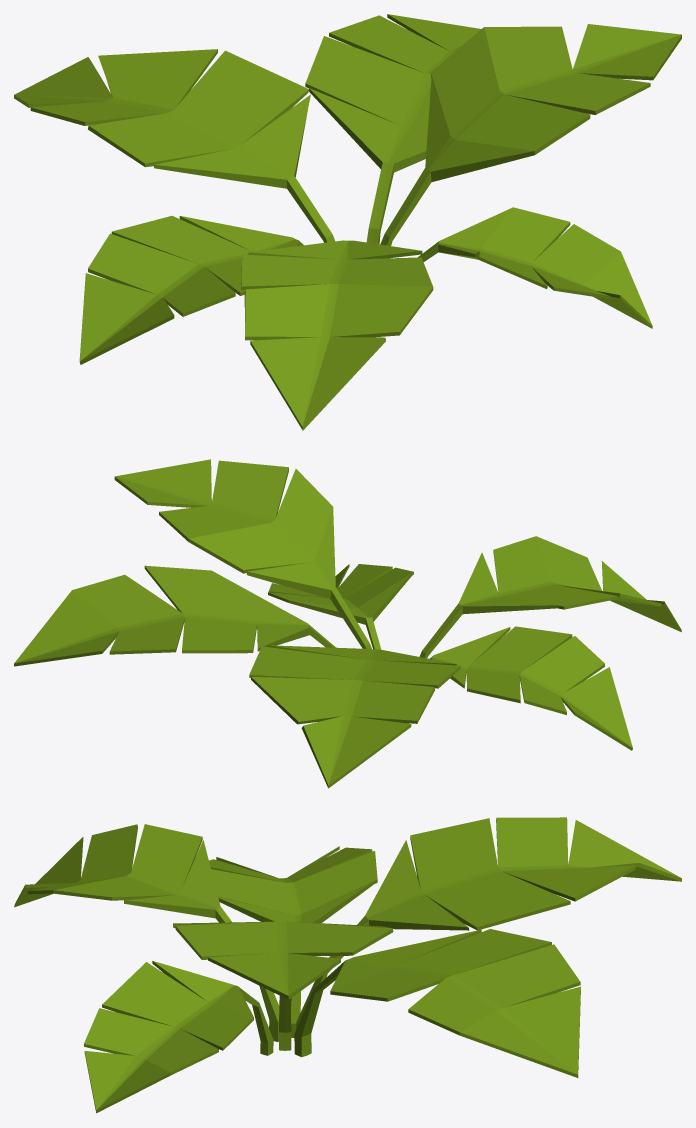
File: Bush_03.fbx
3 views of the same model, one above another, from view 1: azimuth 30°, elevation 25°; view 2: azimuth 150°, elevation 25°; view 3: azimuth 270°, elevation 25° (orthographic). The views are drawn at different scales.
Parts seen in each view (by area): view 1: Bush_03; view 2: Bush_03; view 3: Bush_03.
Part boxes in pixels (left/top/right/bottom): Bush_03: left=14, top=14, right=681, bottom=430; Bush_03: left=14, top=459, right=681, bottom=788; Bush_03: left=14, top=817, right=681, bottom=1113.
Size of the model in its own units: 1.5 by 0.5155 by 1.51.
